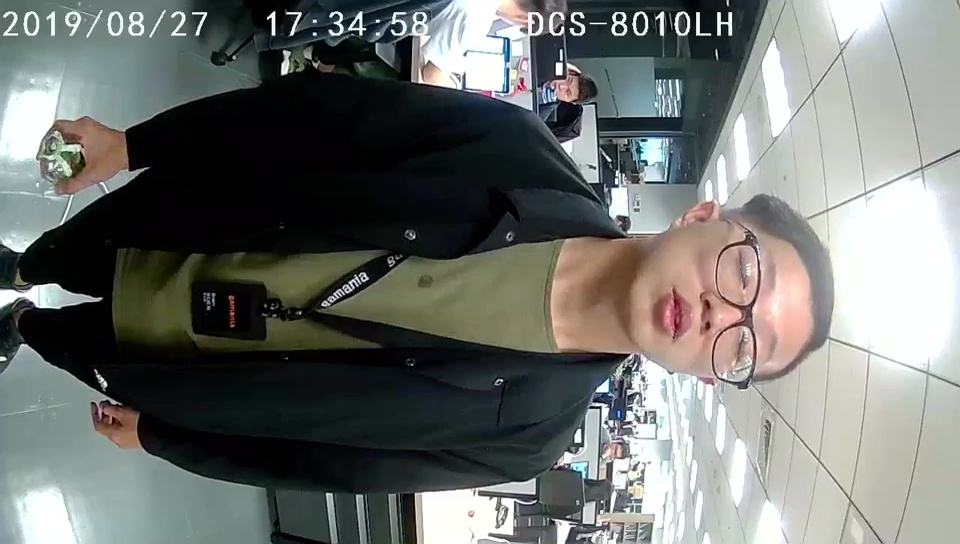buzz: (36, 127, 83, 182)
